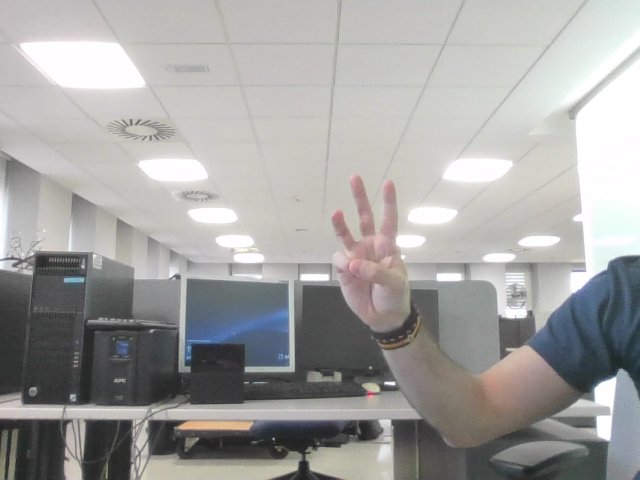3Dedos: (339, 188, 394, 299)
